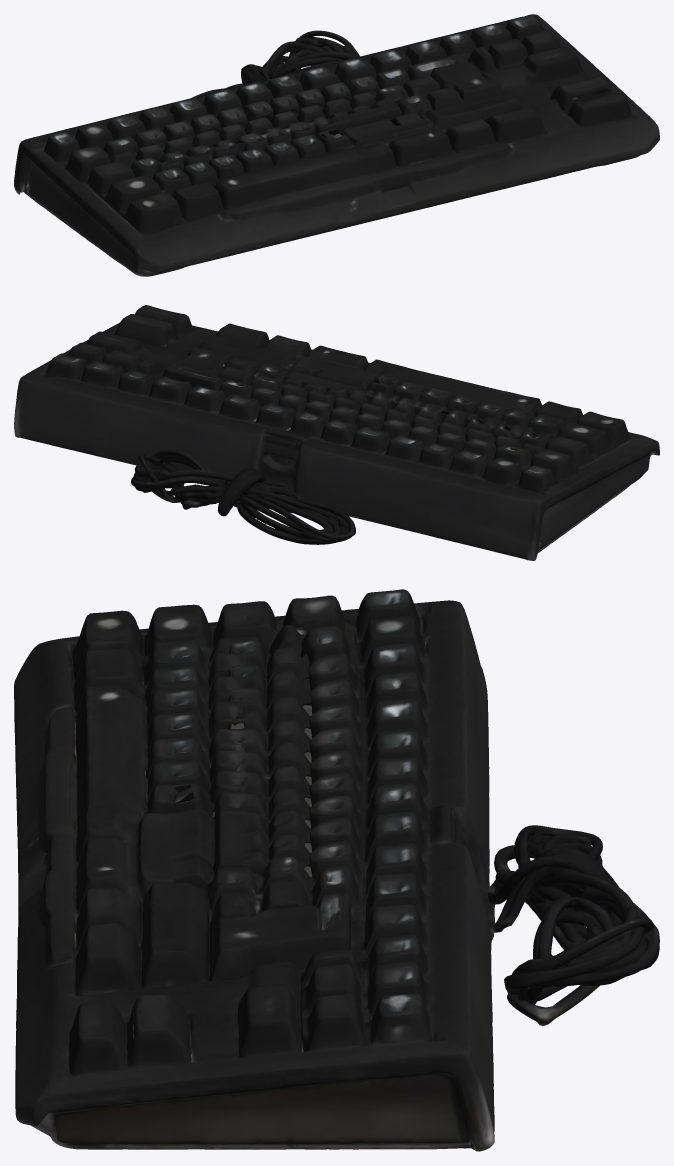
Rendered from Razer_BlackWidow_Tournament_Edition_Keyboard.glb.
3 renders of one model, top to bottom at view 1: azimuth 30°, elevation 25°; view 2: azimuth 150°, elevation 25°; view 3: azimuth 270°, elevation 25°, orthographic. The views are drawn at different scales.
Parts seen in each view (by area): view 1: geometry_0; view 2: geometry_0; view 3: geometry_0.
Part boxes in pixels (bbox=[...]): geometry_0: bbox=[14, 14, 659, 276]; geometry_0: bbox=[14, 305, 659, 560]; geometry_0: bbox=[14, 589, 659, 1151].
Bounding box in the file's own units: 1 × 0.1387 × 0.5966.
Materials: 1 (1 with a texture image).
